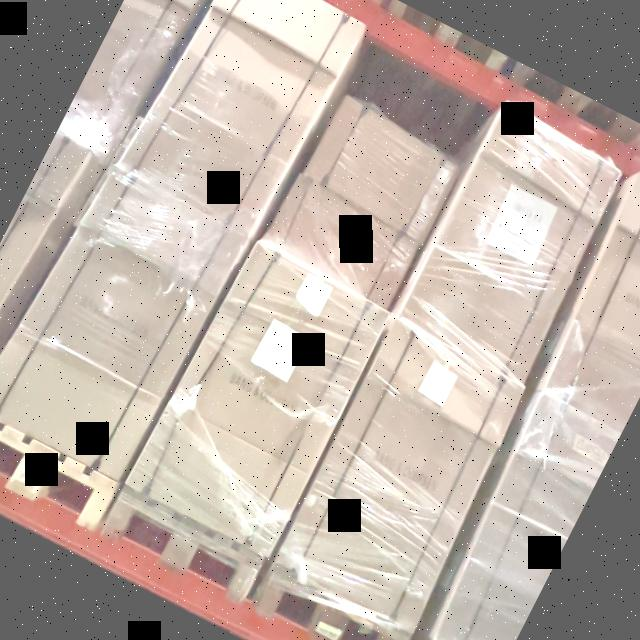box: (125, 242, 388, 557), (0, 166, 247, 478), (276, 327, 520, 623), (401, 103, 622, 380), (121, 0, 366, 238), (303, 97, 463, 248)
